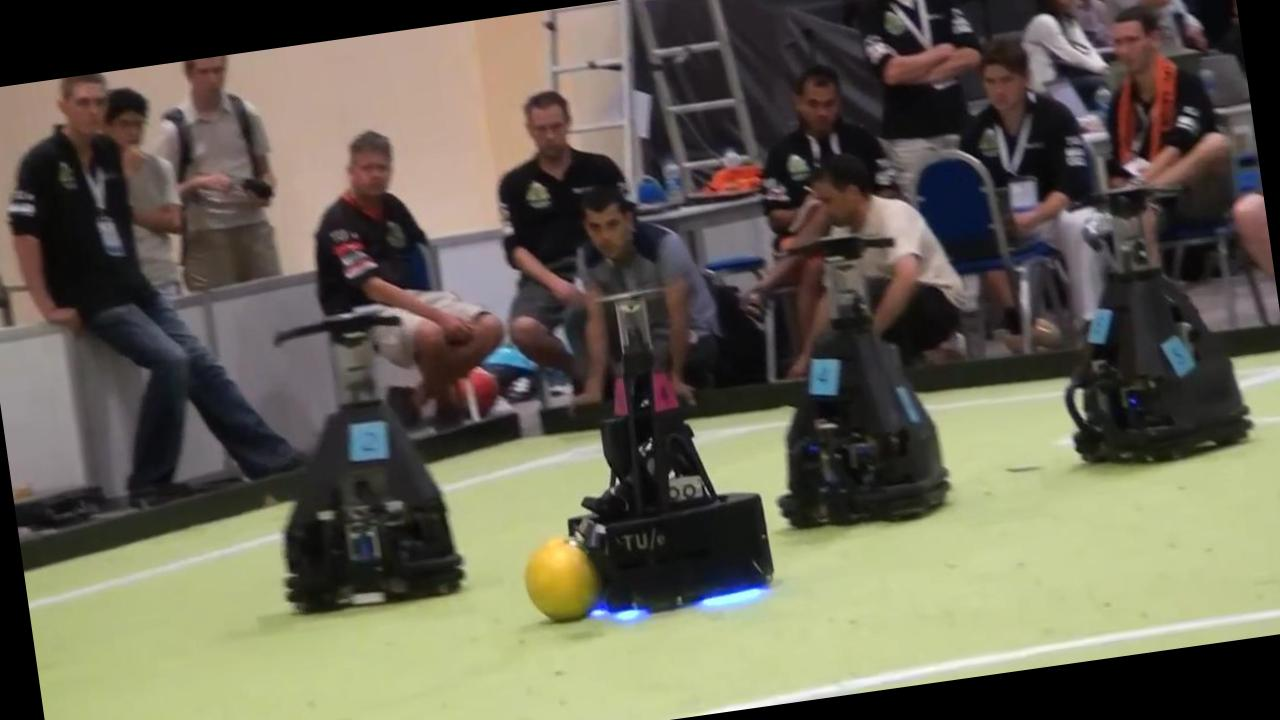ball: (524, 536, 600, 620)
robot: (568, 291, 773, 611), (276, 312, 463, 612), (1064, 188, 1252, 461), (778, 233, 948, 527)
